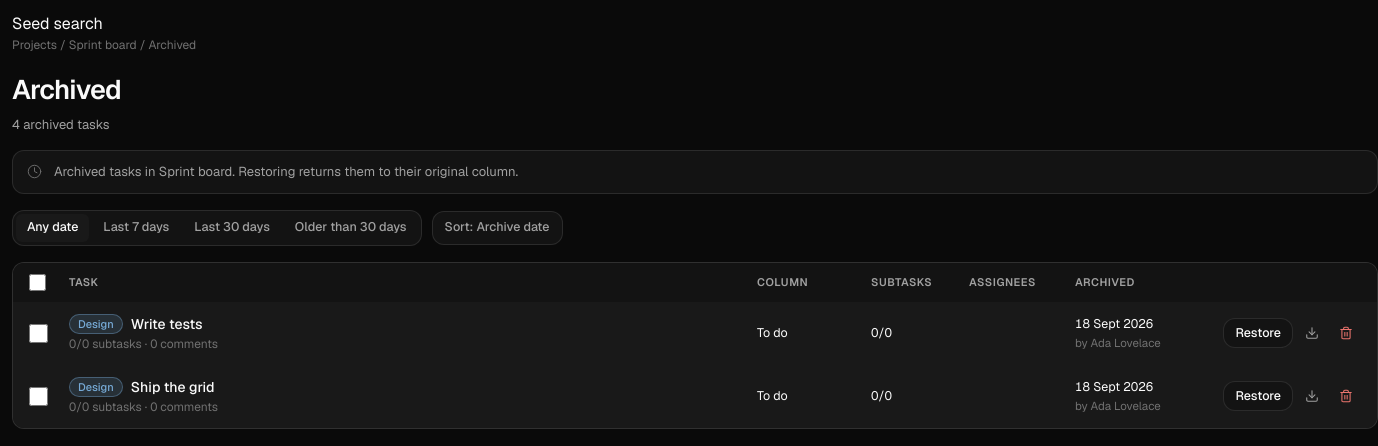
Test: ArchivedView › ignores a previous-filter first page that resolves after a later filter change
Click the button "Last 7 days": (136, 228) [92,214,180,242]
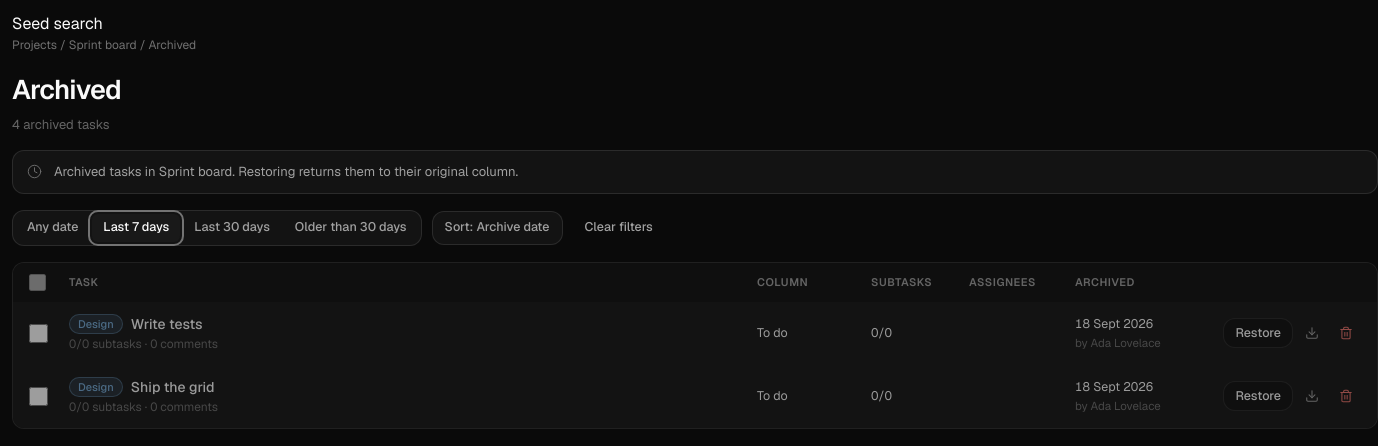
Click the button "Last 30 days": (232, 228) [183,214,281,242]
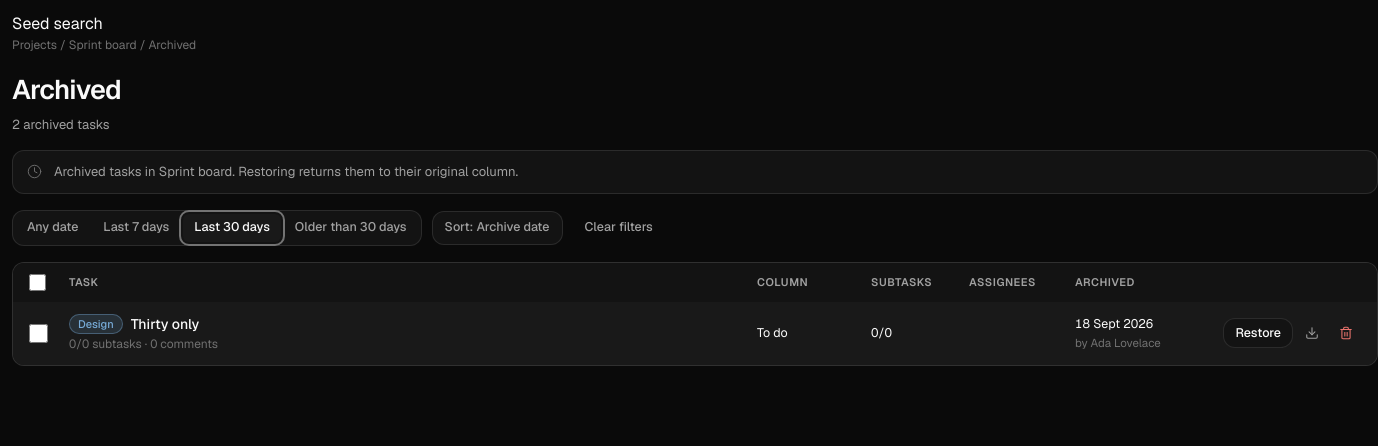
Expected: the element named "Write tests" is shown, [12,262,1377,366]
Expected: the text "2 archived tasks" is shown, [12,116,110,132]
Expected: the text "Write tests" is gone
